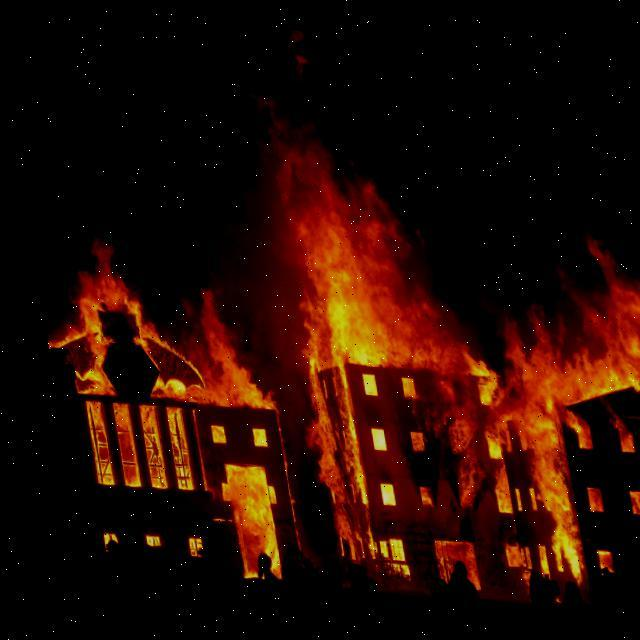Fire: (278, 150, 568, 596), (60, 245, 273, 571), (532, 221, 639, 595)
